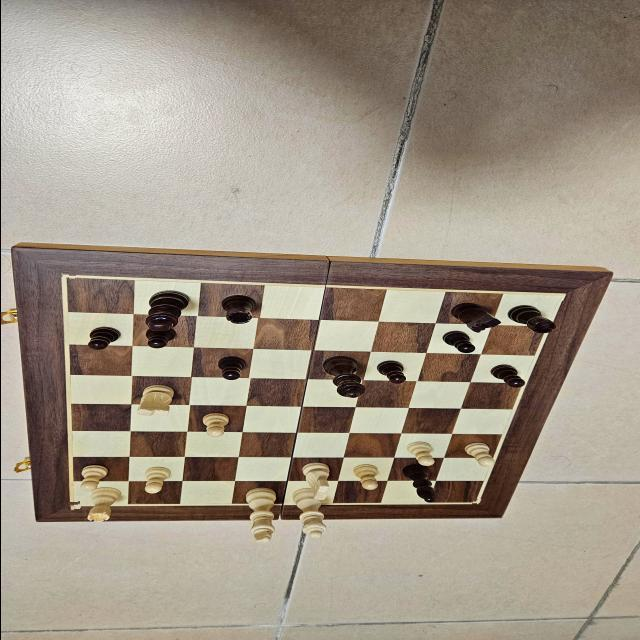chess-table-corners: (56, 270, 74, 284), (554, 289, 566, 301), (471, 499, 482, 507), (67, 502, 79, 509)
